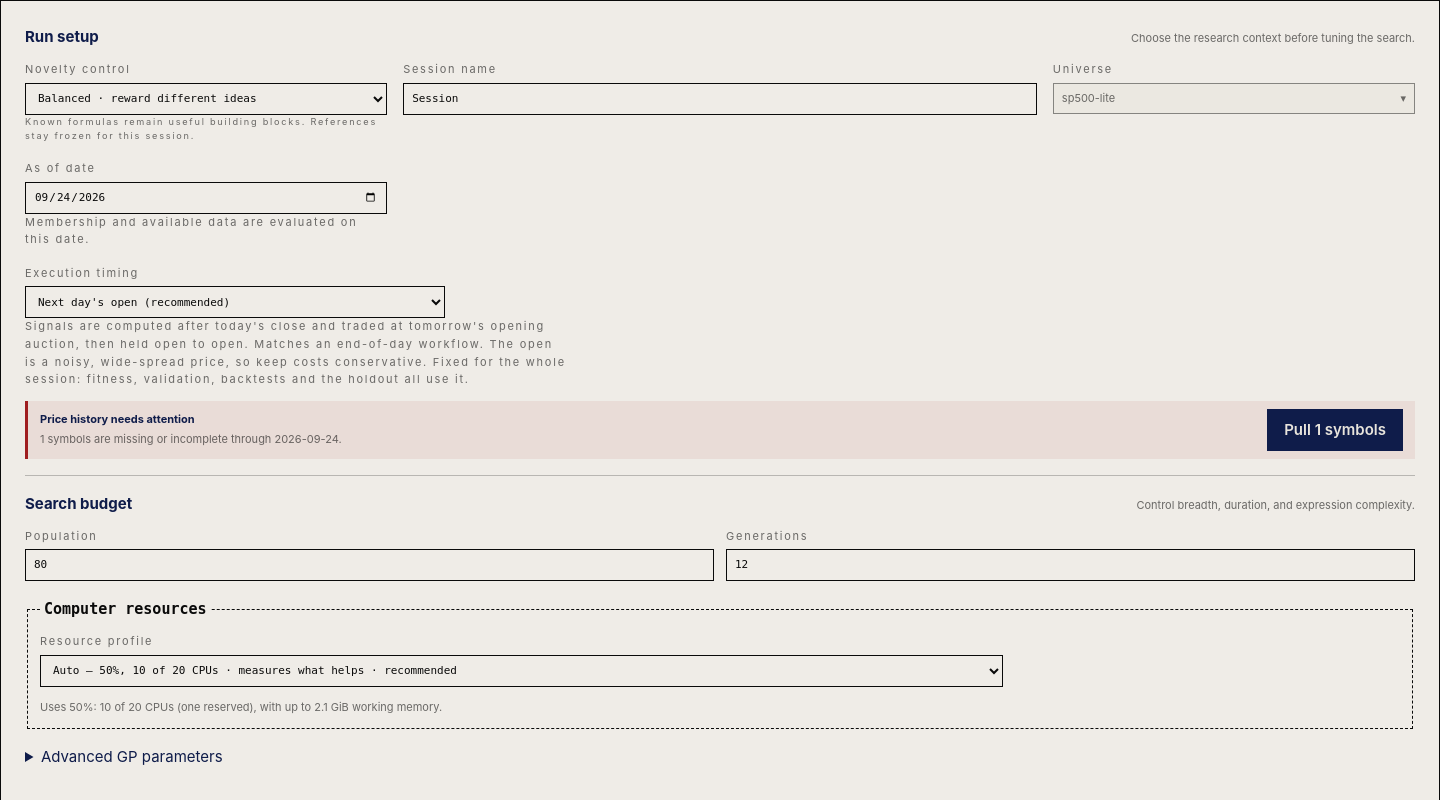
Test case: RunConfigForm execution timing › reports a pull that stopped on the provider's allowance instead of looking complete
Click the button with test id "fill-price-gaps" at x=1335, y=430, box [1267, 409, 1403, 451]
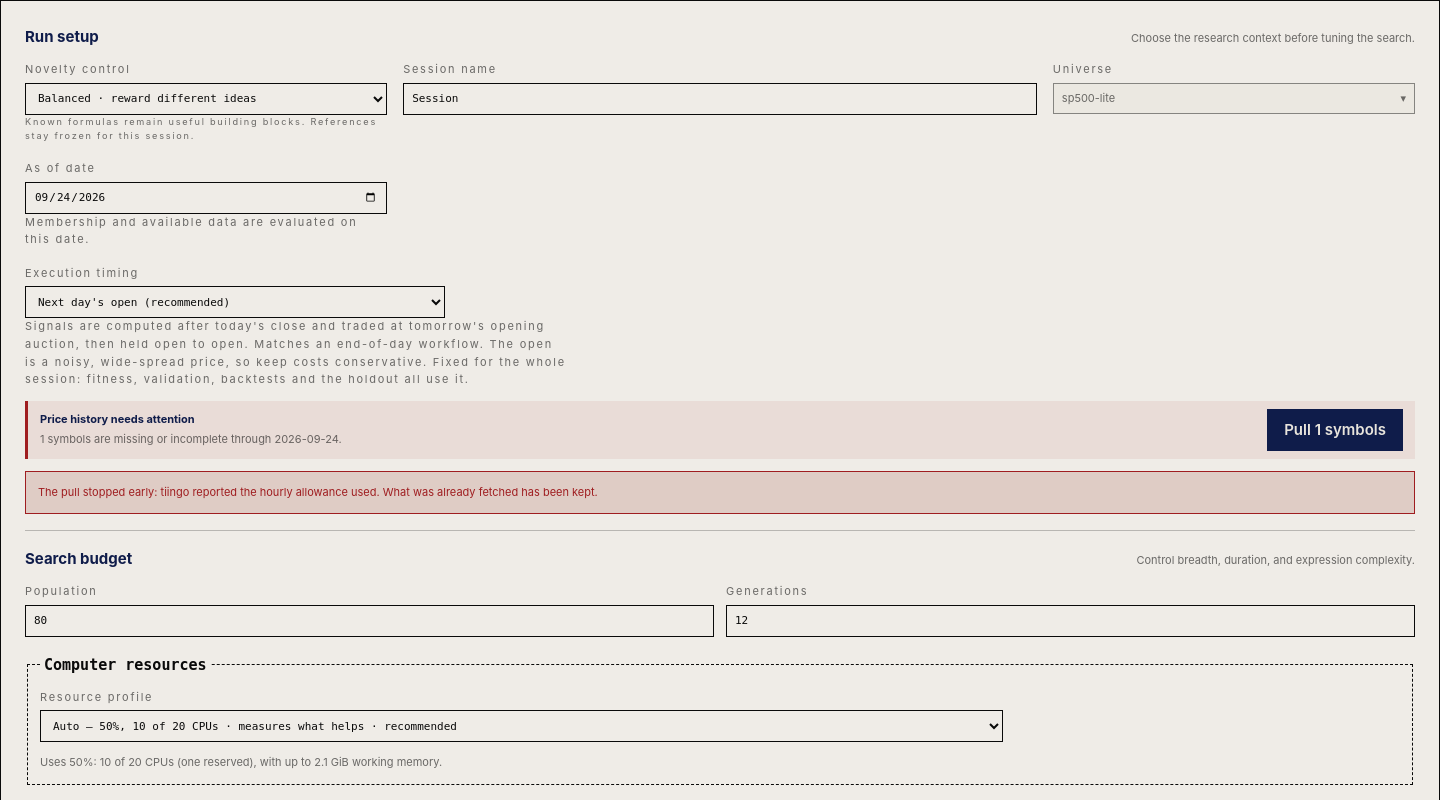
Now the message with test id "fill-notice" shows "tiingo reported the hourly allowance used", box [38, 485, 598, 499]
